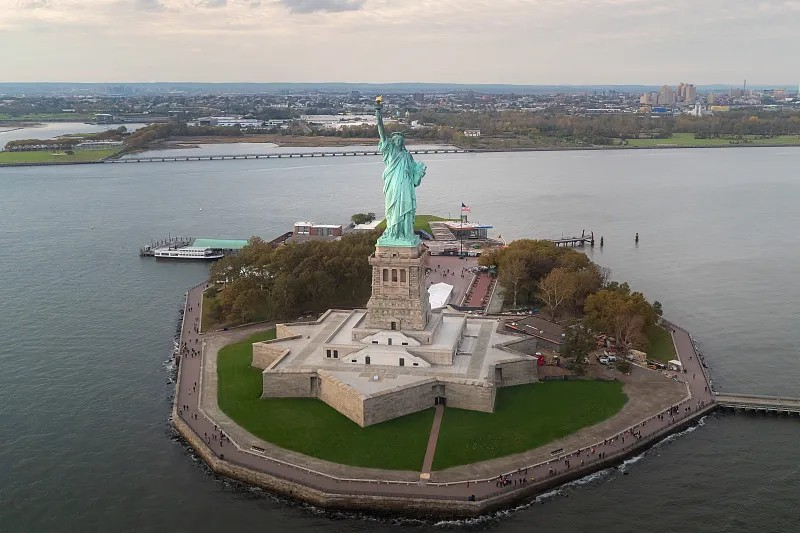SL: (365, 96, 432, 331)
